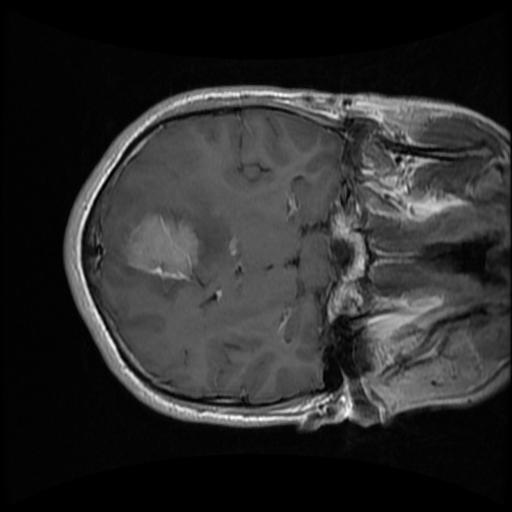meningioma: (125, 215, 199, 279)
